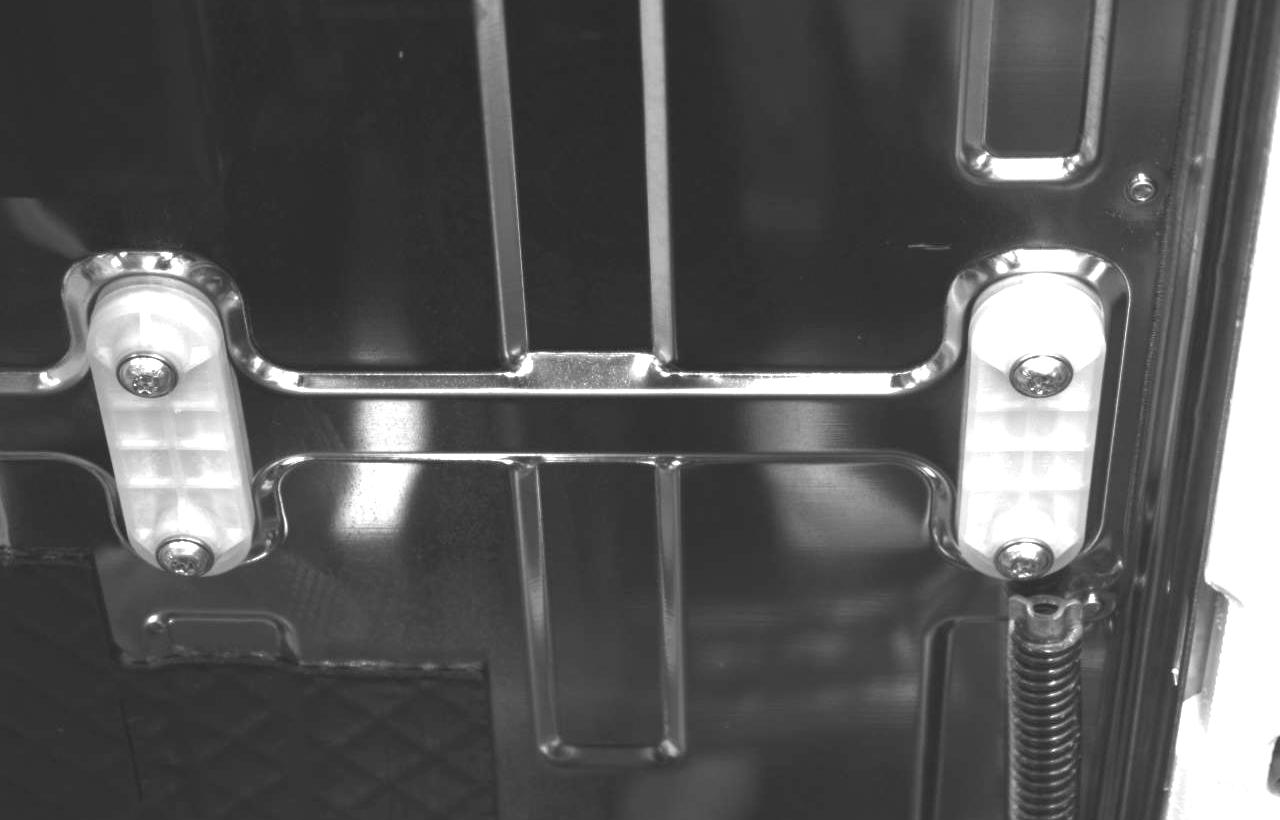vida-ok: (111, 347, 183, 414), (1009, 344, 1076, 411), (993, 528, 1059, 587), (151, 527, 217, 585)
